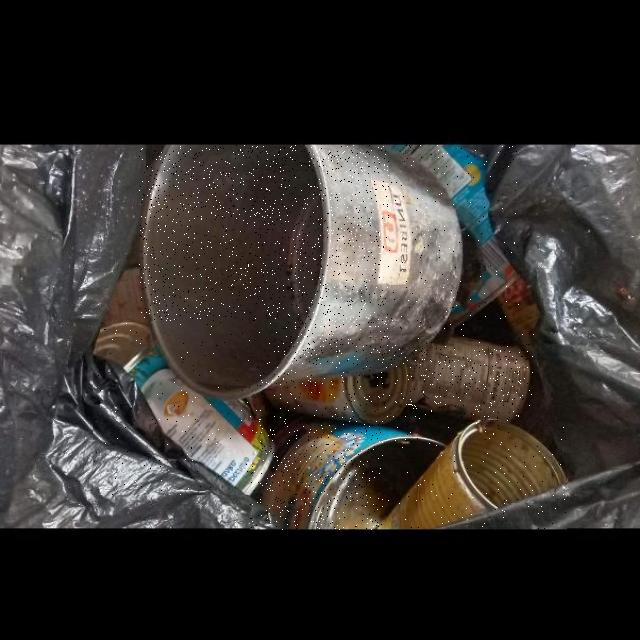metal: (139, 145, 465, 399), (94, 321, 274, 495), (391, 146, 519, 345), (251, 416, 449, 530), (384, 419, 567, 530), (408, 334, 535, 421), (255, 362, 423, 424)
